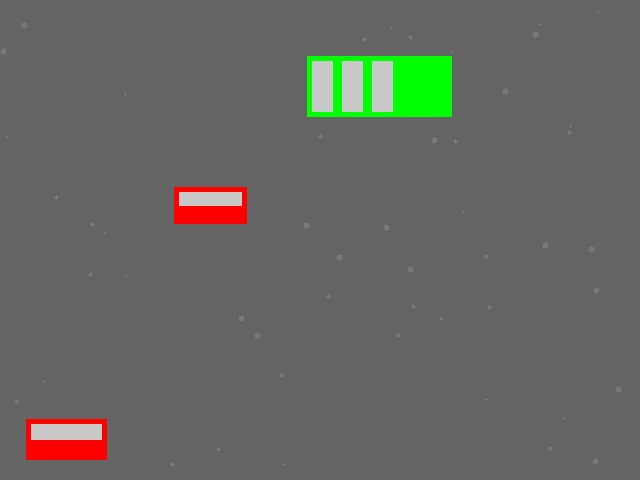bus: (307, 56, 451, 116)
car: (26, 419, 106, 459), (174, 187, 246, 223)
